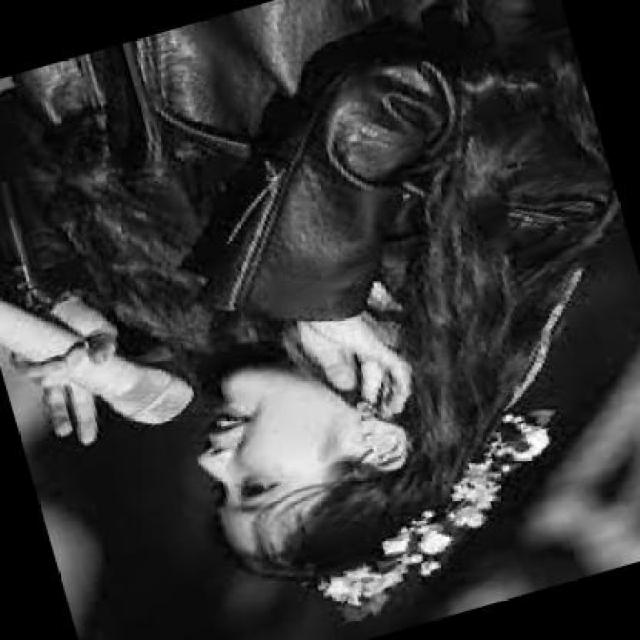earphone: (359, 414, 395, 462)
